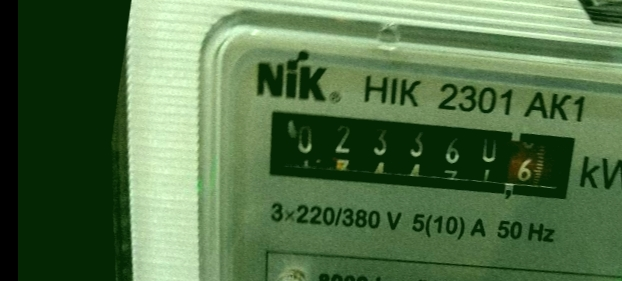0: (292, 120, 319, 156), (475, 132, 502, 166)
2: (331, 120, 356, 156)
3: (367, 124, 391, 158), (406, 124, 429, 159)
6: (440, 131, 465, 167), (513, 151, 538, 186)
screen: (246, 83, 594, 226)
